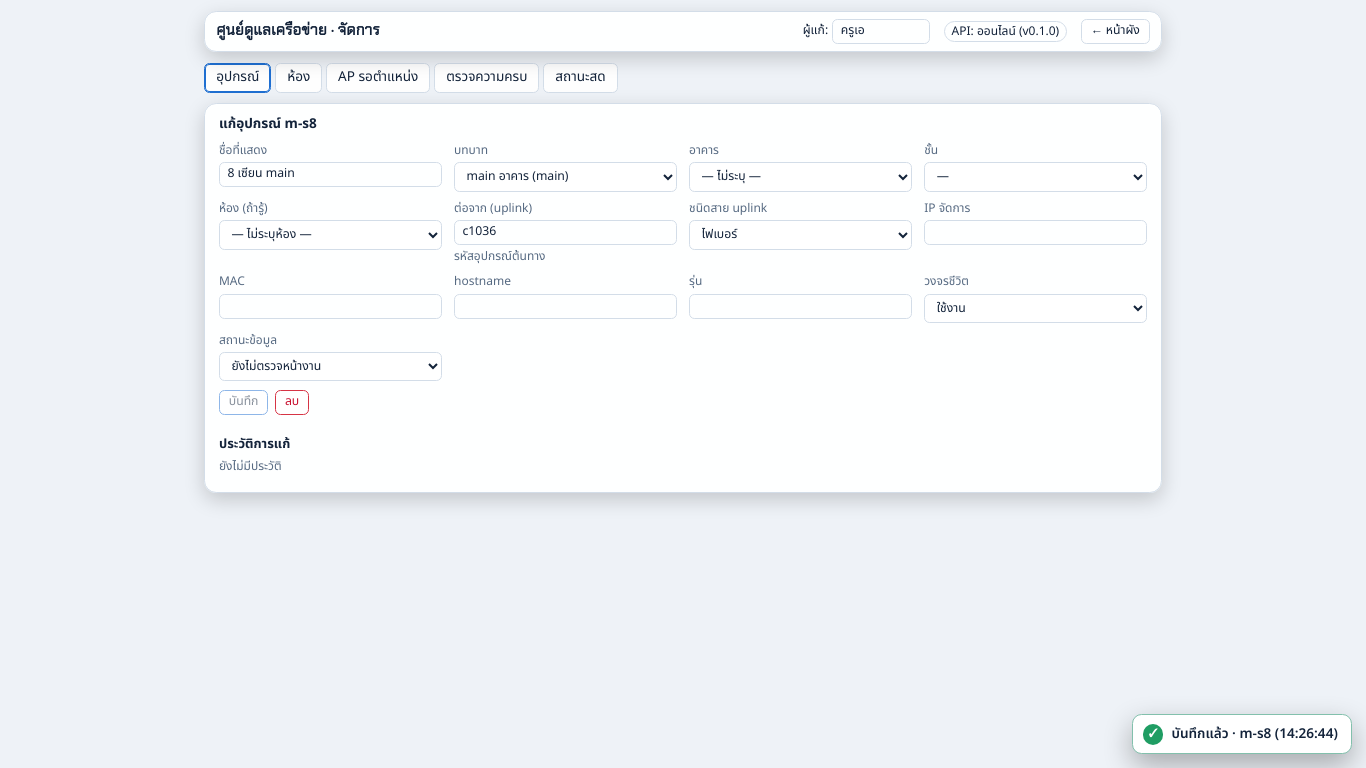
Test case: back office (M21) › explains a conflict and offers to reload
Replace the text in the field showing "8 เซียน main" with "x" at (330, 175), box [219,162,442,187]
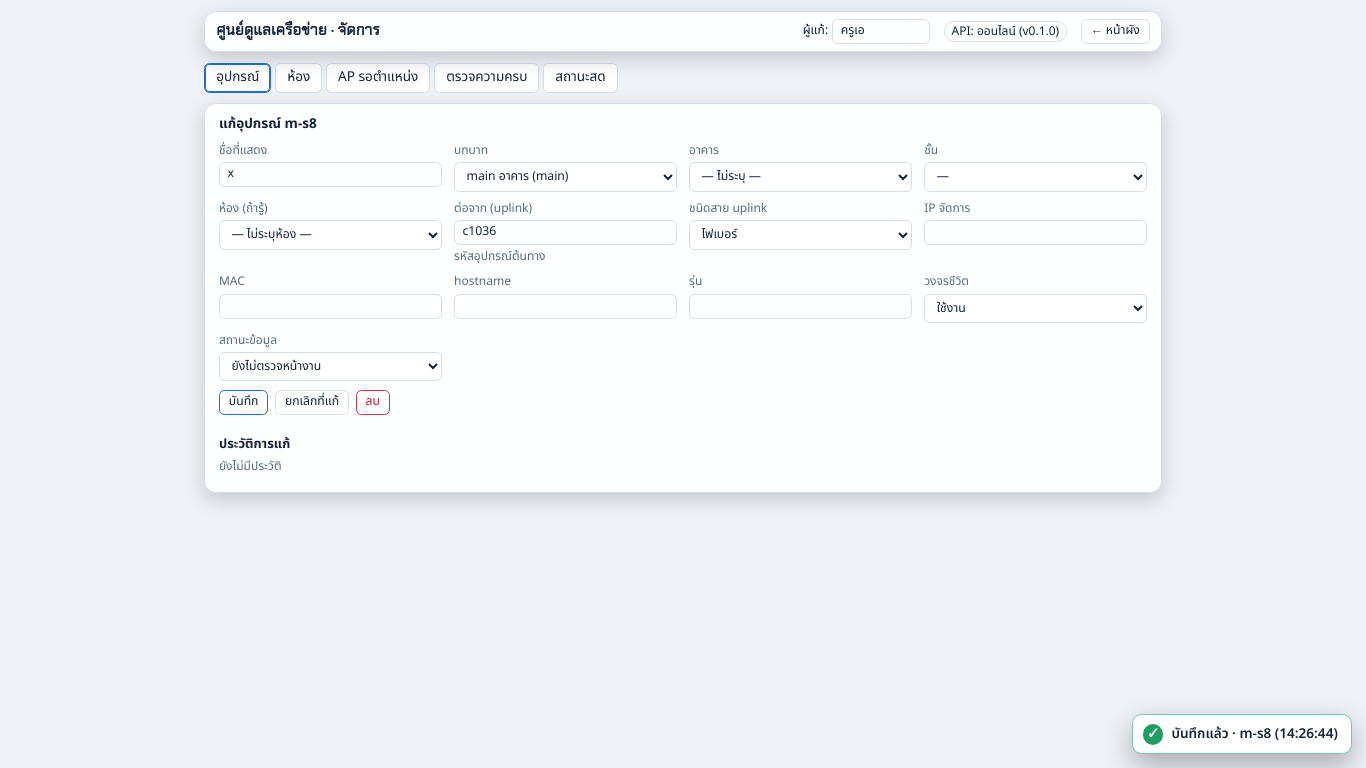
Click the button "บันทึก" at (244, 402), box [219,390,268,415]
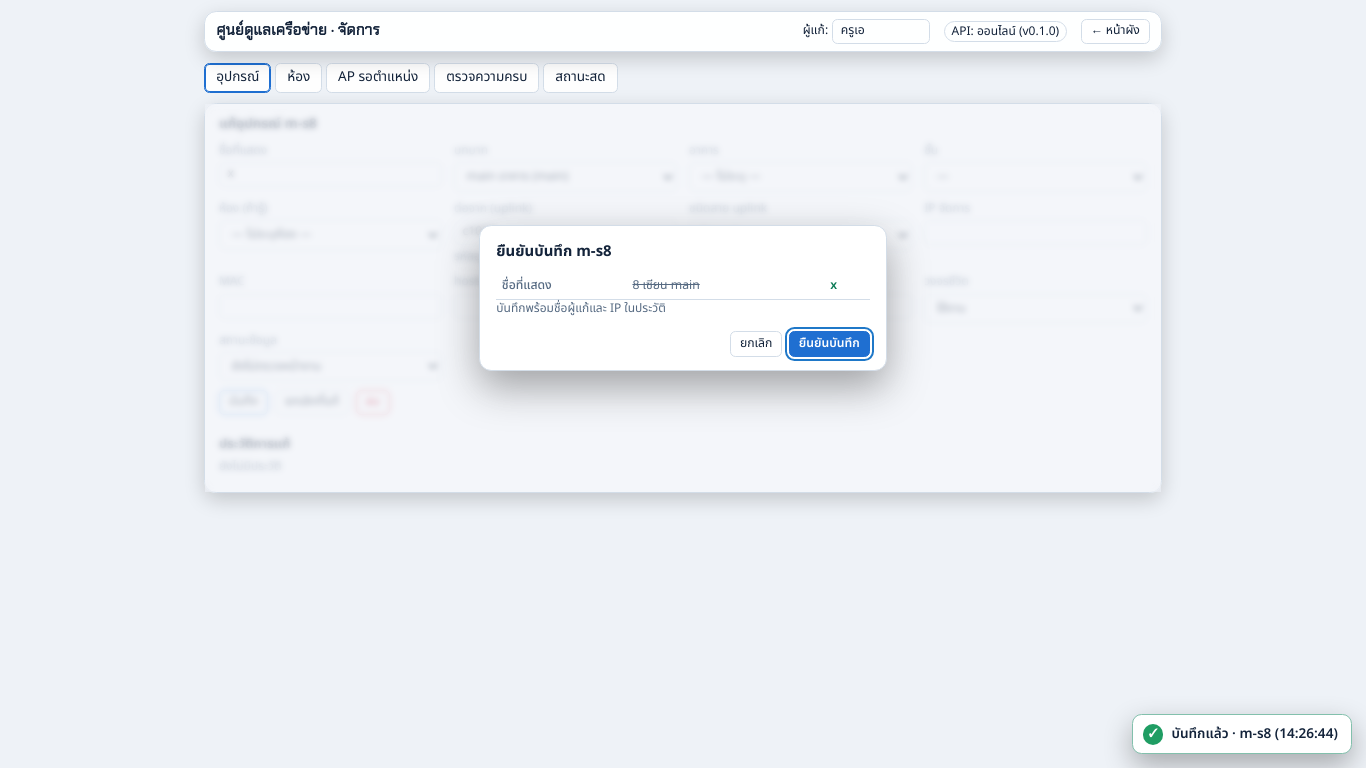
Click the button "ยืนยันบันทึก" at (829, 344), box [789,331,870,357]
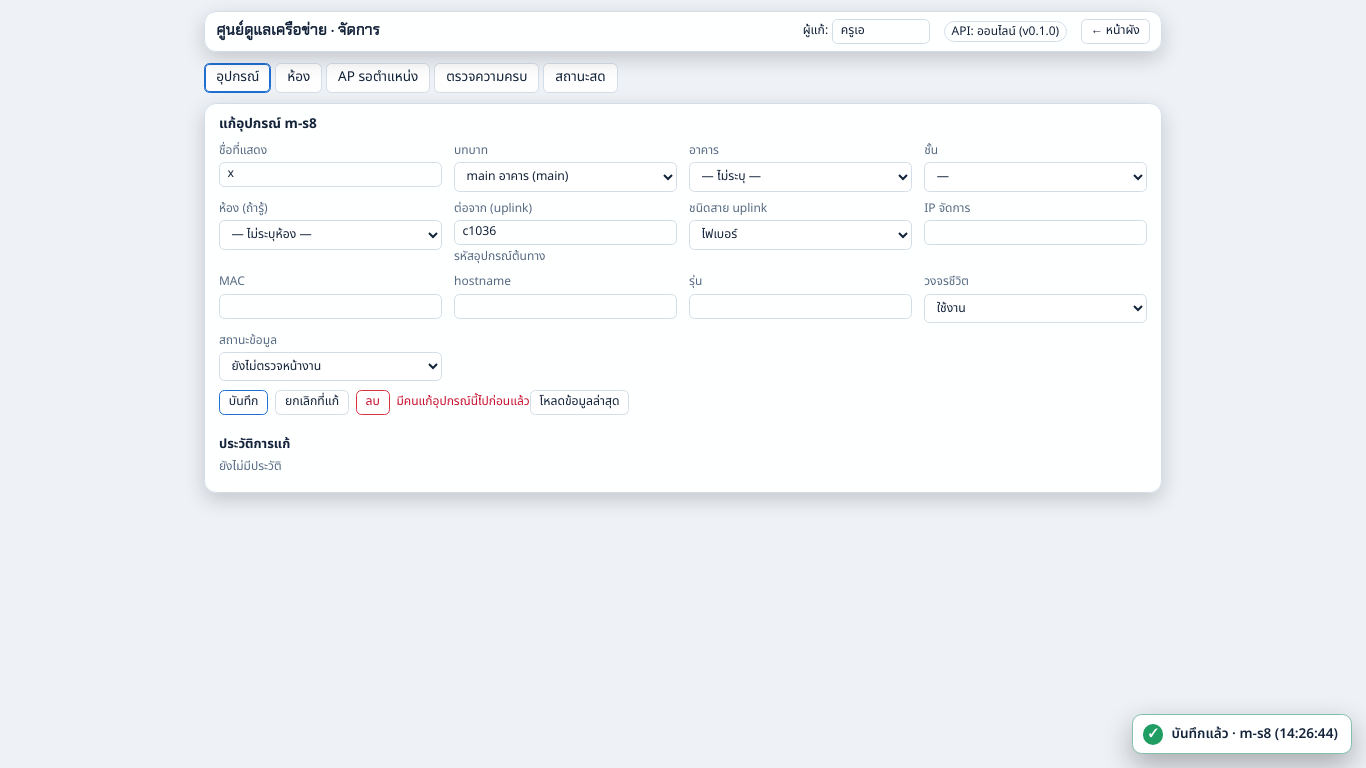
Expected: the message "มีคนแก้อุปกรณ์นี้ไปก่อนแล้ว โหลดข้อมูลล่าสุด" is shown, [396,390,629,415]
Expected: the button "โหลดข้อมูลล่าสุด" is shown, [530,390,629,415]
